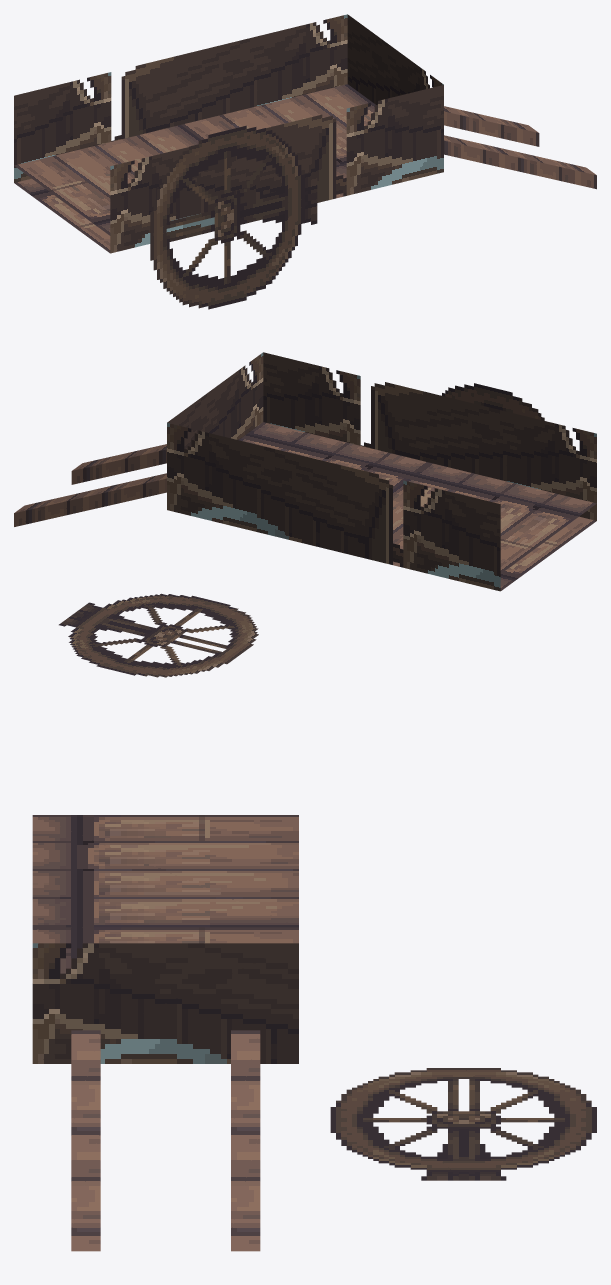
File: cart.glb
3 views of the same model, one above another, from view 1: azimuth 30°, elevation 25°; view 2: azimuth 150°, elevation 25°; view 3: azimuth 270°, elevation 25° (orthographic). The views are drawn at different scales.
Parts seen in each view (by area): view 1: crocotile_scene; view 2: crocotile_scene; view 3: crocotile_scene.
Part boxes in pixels (x1,y1,x2,y2): crocotile_scene: (14, 14, 596, 309); crocotile_scene: (14, 352, 596, 677); crocotile_scene: (32, 815, 596, 1251).
Size of the model in its own units: 3 by 1 by 2.19.
Materials: 2 (2 with a texture image).
